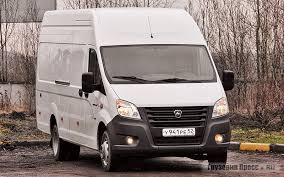van: (36, 6, 233, 171)
